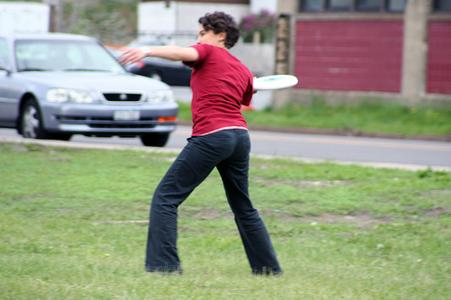person: (119, 11, 286, 277)
